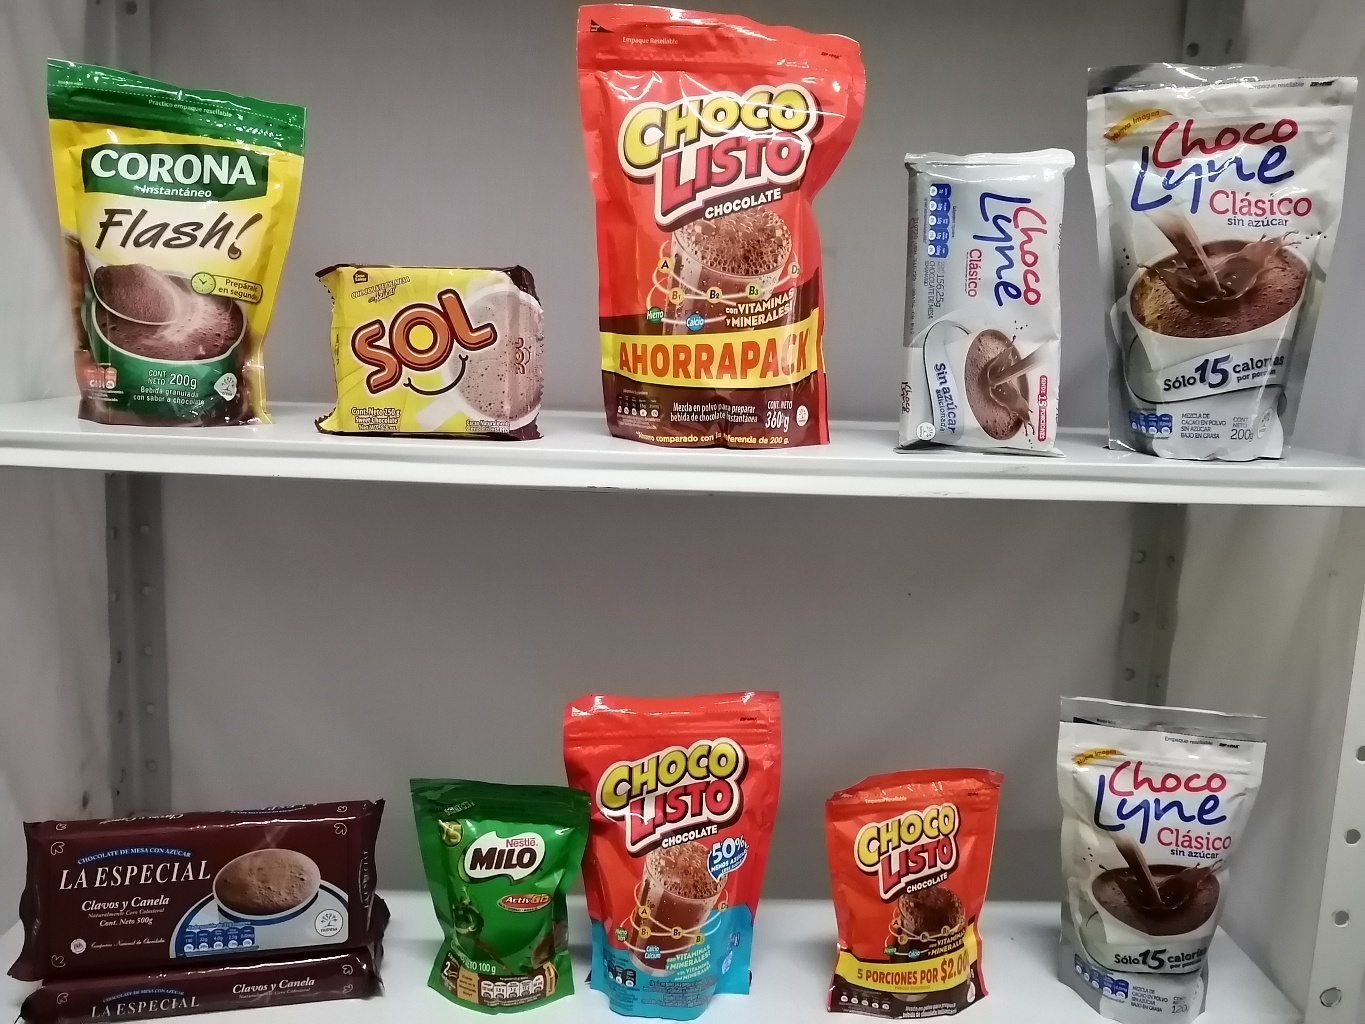COL0170103DYP36000: (567, 4, 872, 457)
COL0170104DYP20000: (553, 679, 784, 1019)
COL0170203DYP10000: (399, 767, 591, 1016)
